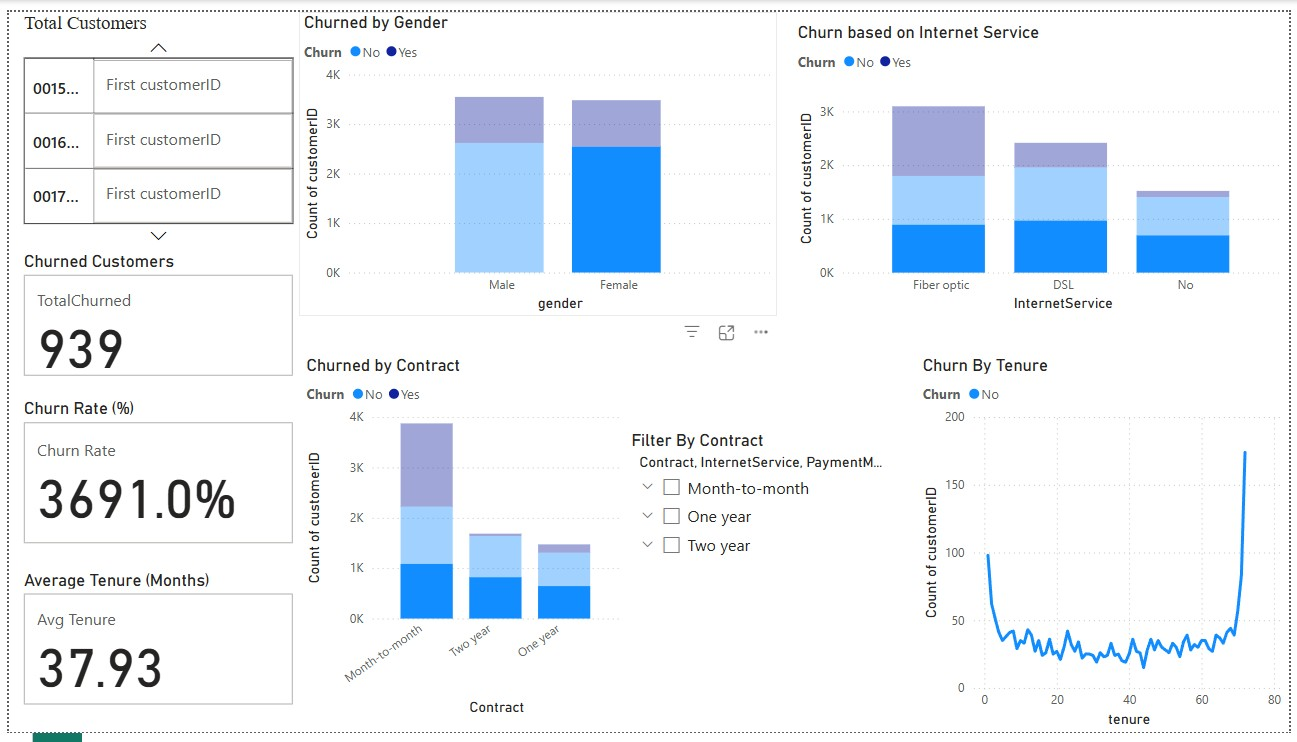

This screenshot's page, from the dashboard's own definition file:
{"tool":"powerbi","page":{"name":"Page 1","canvas":[1280,720],"ordinal":0},"visuals":[{"type":"cardVisual","title":"Total Customers","fields":{"Rows":["WA_Fn-UseC_-Telco-Customer-Churn.customerID"],"Data":["Min(WA_Fn-UseC_-Telco-Customer-Churn.customerID)"]},"box":[10,0,279.9,238.8],"z":0},{"type":"cardVisual","title":"Churned Customers","fields":{"Data":["WA_Fn-UseC_-Telco-Customer-Churn.TotalChurned"]},"box":[10,238.8,279.9,130.6],"z":1000},{"type":"cardVisual","title":"Churn Rate (%)","fields":{"Data":["WA_Fn-UseC_-Telco-Customer-Churn.Churn Rate"]},"box":[10,385.6,279.9,150.5],"z":2000},{"type":"cardVisual","title":"Average Tenure (Months)","fields":{"Data":["WA_Fn-UseC_-Telco-Customer-Churn.Avg Tenure"]},"box":[10,557.3,279.9,140.6],"z":3000},{"type":"columnChart","title":"Churned by Gender","fields":{"Category":["WA_Fn-UseC_-Telco-Customer-Churn.gender"],"Y":["CountNonNull(WA_Fn-UseC_-Telco-Customer-Churn.customerID)"],"Series":["WA_Fn-UseC_-Telco-Customer-Churn.Churn"]},"box":[290,0,477.1,304.3],"z":4000},{"type":"columnChart","title":"Churned by Contract","fields":{"Category":["WA_Fn-UseC_-Telco-Customer-Churn.Contract"],"Y":["CountNonNull(WA_Fn-UseC_-Telco-Customer-Churn.customerID)"],"Series":["WA_Fn-UseC_-Telco-Customer-Churn.Churn"]},"box":[292.9,342.9,324.3,365.7],"z":5000},{"type":"columnChart","title":"Churn based on Internet Service","fields":{"Category":["WA_Fn-UseC_-Telco-Customer-Churn.InternetService"],"Series":["WA_Fn-UseC_-Telco-Customer-Churn.Churn"],"Y":["CountNonNull(WA_Fn-UseC_-Telco-Customer-Churn.customerID)"]},"box":[784.3,10,495.7,294.3],"z":6000},{"type":"lineChart","title":"Churn By Tenure","fields":{"Category":["WA_Fn-UseC_-Telco-Customer-Churn.tenure"],"Y":["CountNonNull(WA_Fn-UseC_-Telco-Customer-Churn.customerID)"],"Series":["WA_Fn-UseC_-Telco-Customer-Churn.Churn"]},"box":[908.6,342.9,371.4,377.1],"z":7000},{"type":"slicer","title":"Filter By Contract","fields":{"Values":["WA_Fn-UseC_-Telco-Customer-Churn.Contract","WA_Fn-UseC_-Telco-Customer-Churn.InternetService","WA_Fn-UseC_-Telco-Customer-Churn.PaymentMethod","WA_Fn-UseC_-Telco-Customer-Churn.SeniorCitizen"]},"box":[617.1,417.1,280,302.9],"z":7001}]}

Visuals, with their boxes in screenshot pixels (x1, y1, x2, y2), scaled from the page's 1280x720 canvas onto the 1297x742 screenshot:
"Total Customers" cardVisual: bbox=[10, 0, 294, 246]
"Churned Customers" cardVisual: bbox=[10, 246, 294, 381]
"Churn Rate (%)" cardVisual: bbox=[10, 397, 294, 552]
"Average Tenure (Months)" cardVisual: bbox=[10, 574, 294, 719]
"Churned by Gender" columnChart: bbox=[294, 0, 777, 314]
"Churned by Contract" columnChart: bbox=[297, 353, 625, 730]
"Churn based on Internet Service" columnChart: bbox=[795, 10, 1296, 314]
"Churn By Tenure" lineChart: bbox=[921, 353, 1296, 741]
"Filter By Contract" slicer: bbox=[625, 430, 909, 741]
